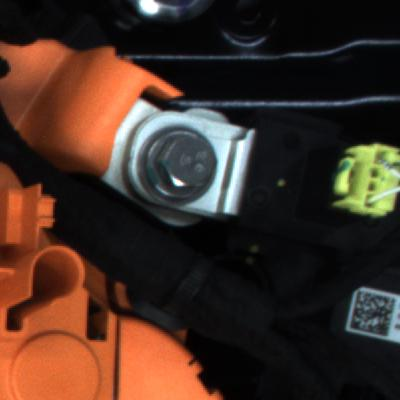nut_b: (137, 124, 216, 208)
